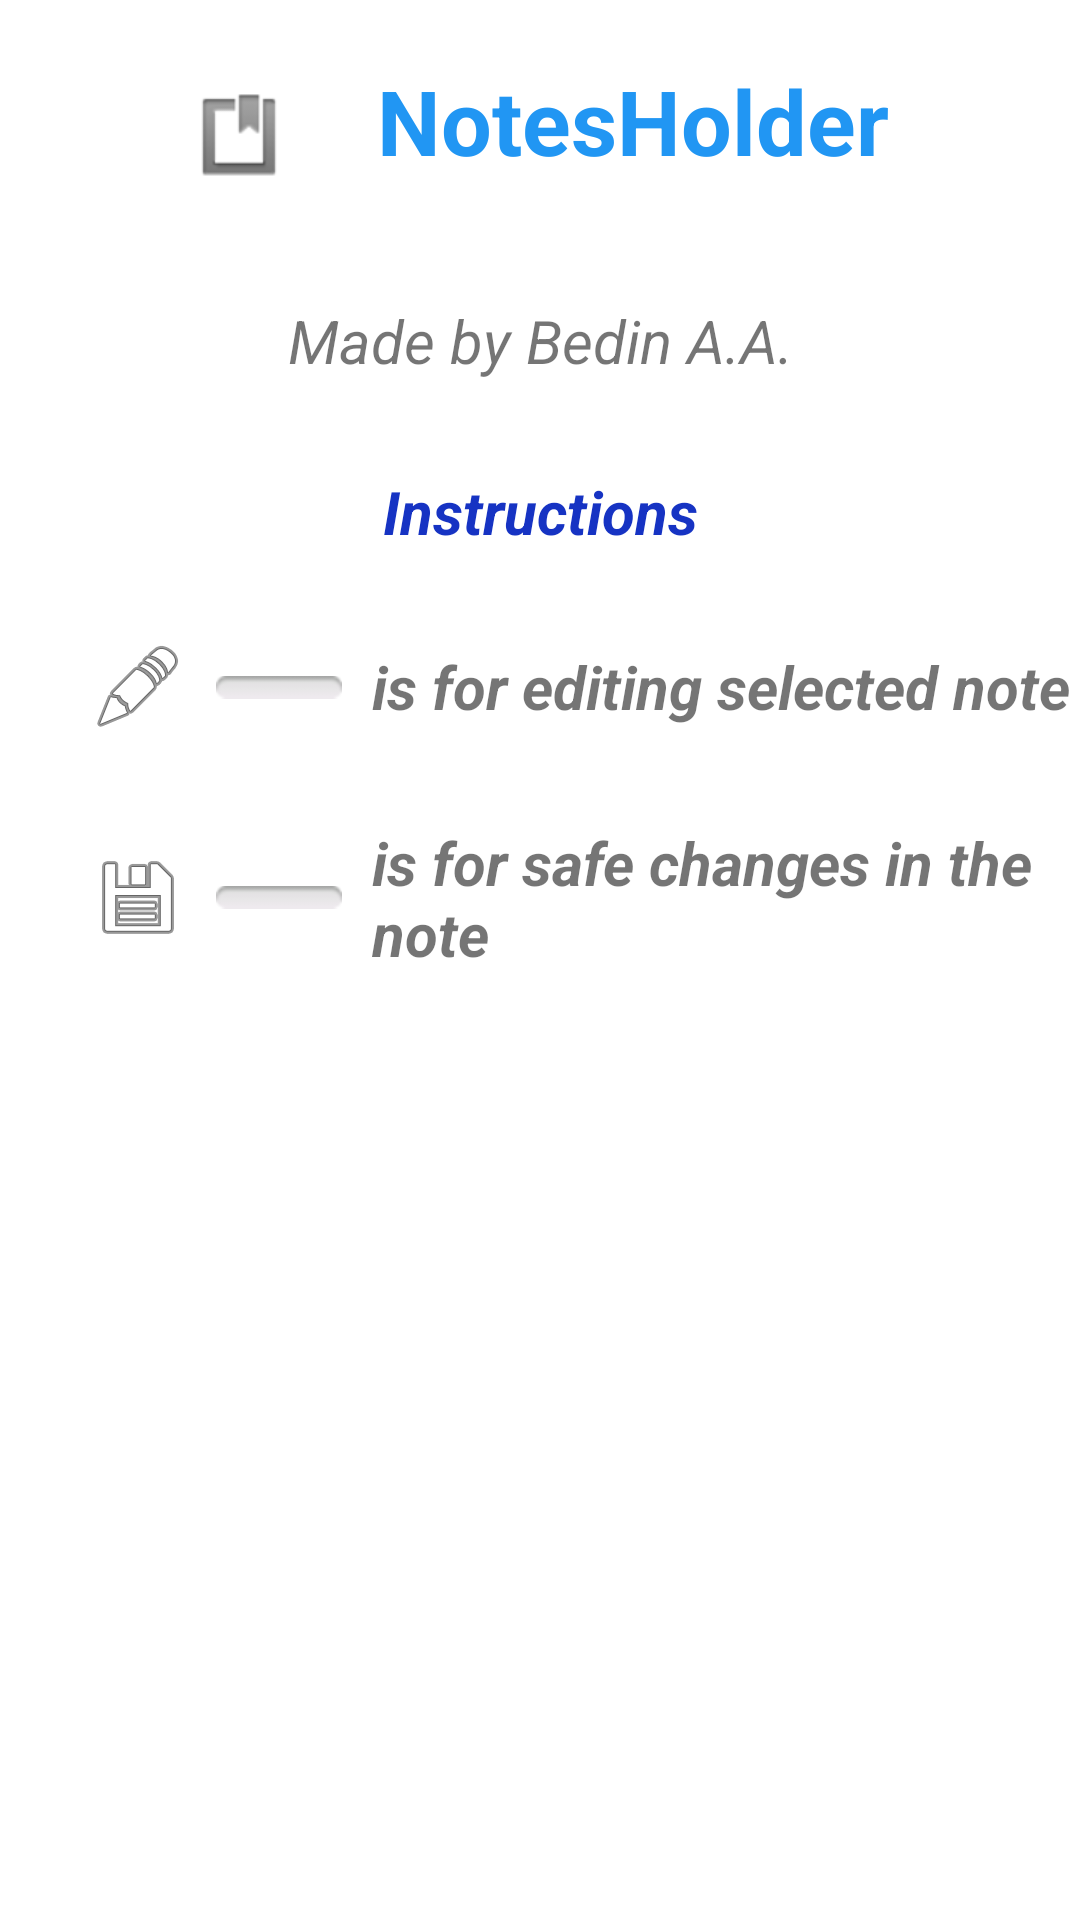

Locate icon controls on the screen. Image size 1080x1920, boxes as (left=x1, top=y1, right=x2, bottom=y2).
edit: (left=97, top=646, right=178, bottom=727)
save: (left=102, top=861, right=174, bottom=934)
